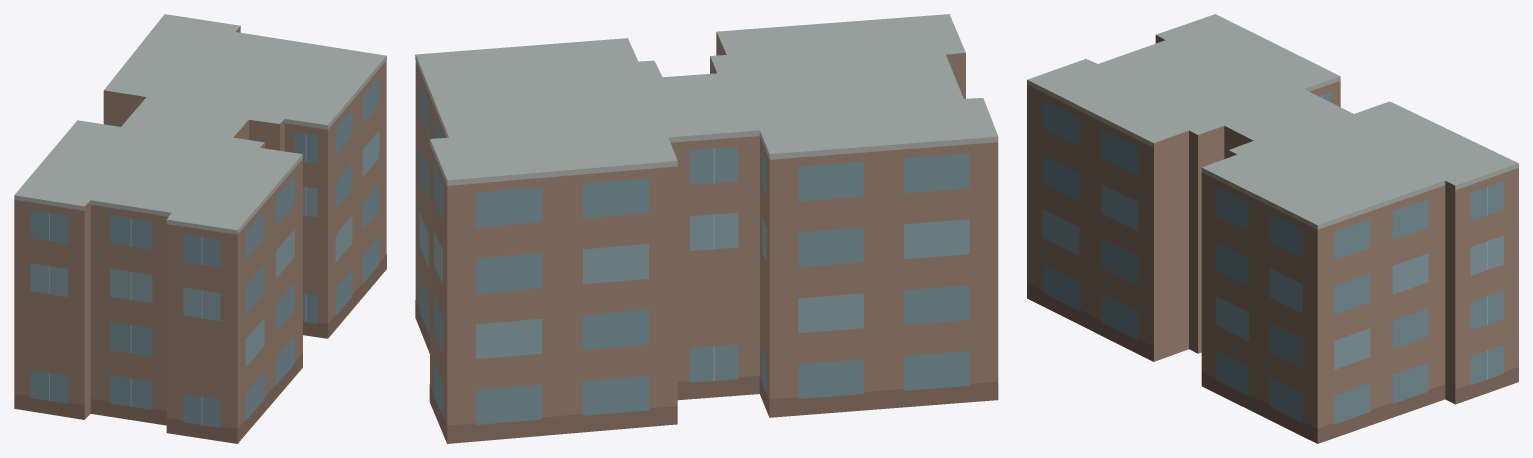
The model's file is survey-upis-32730047.glb.
The picture shows the model from 3 angles, left to right: view 1: azimuth 30°, elevation 25°; view 2: azimuth 150°, elevation 25°; view 3: azimuth 270°, elevation 25°; orthographic projection. The views are drawn at different scales.
Parts seen in each view (by area): view 1: survey-upis-32730047.tmp; view 2: survey-upis-32730047.tmp; view 3: survey-upis-32730047.tmp.
Part boxes in pixels (bbox=[...]): survey-upis-32730047.tmp: bbox=[14, 14, 386, 443]; survey-upis-32730047.tmp: bbox=[415, 14, 998, 443]; survey-upis-32730047.tmp: bbox=[1027, 14, 1518, 443].
Bounding box in the file's own units: 24.24 × 11.7 × 23.85.
